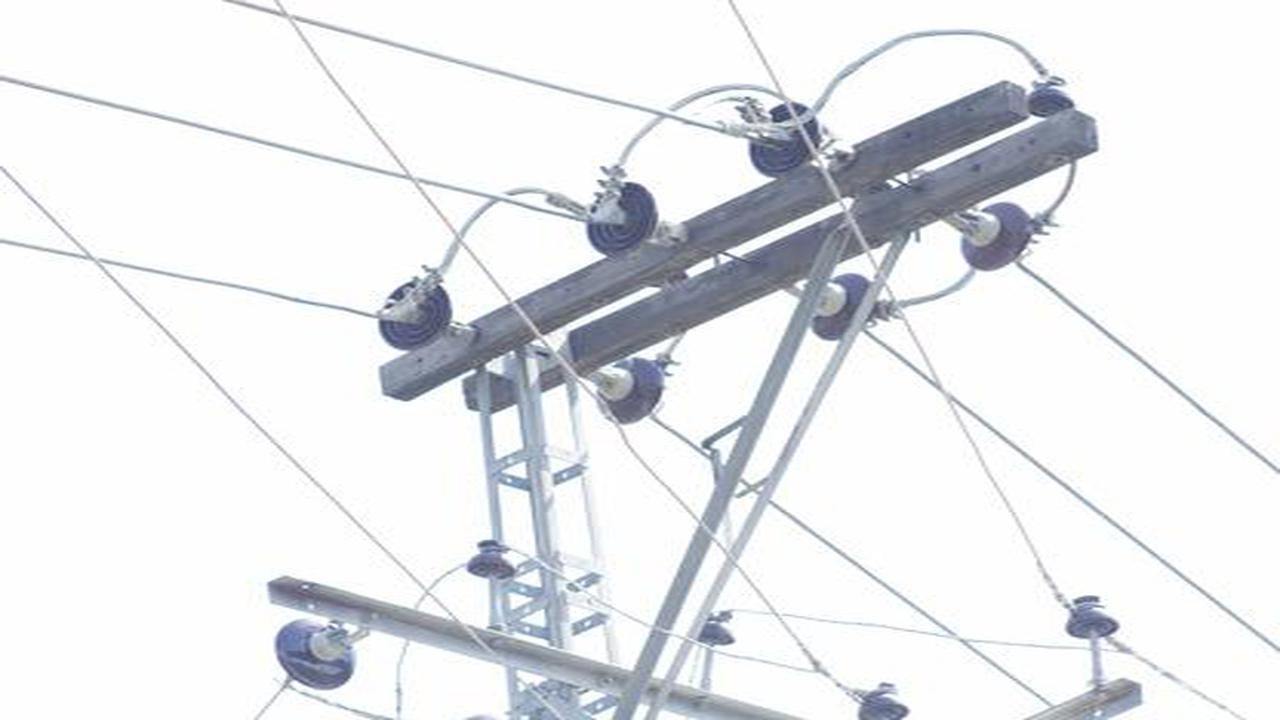insulator_disc: (273, 614, 361, 695), (377, 275, 456, 354), (582, 181, 660, 261), (746, 102, 822, 184), (960, 201, 1037, 272), (594, 357, 667, 429), (805, 273, 874, 346)
insulator_pin: (1064, 587, 1122, 647), (463, 535, 518, 584), (1027, 71, 1078, 117), (854, 676, 909, 716), (700, 607, 739, 653)
